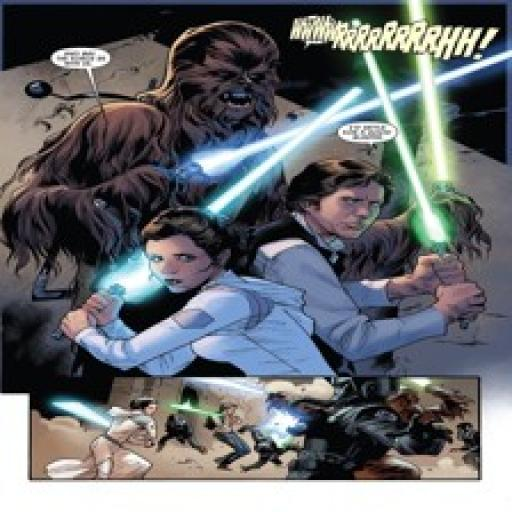lightsaber: (46, 86, 358, 341), (93, 51, 512, 211), (352, 19, 474, 330), (404, 0, 456, 195)
